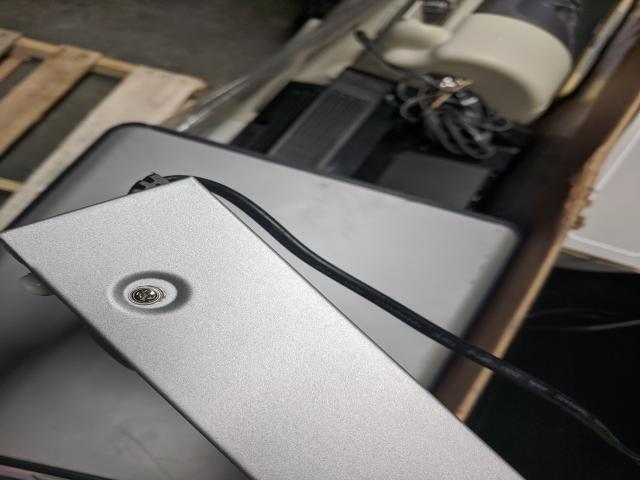CRS: (130, 288, 157, 304)
